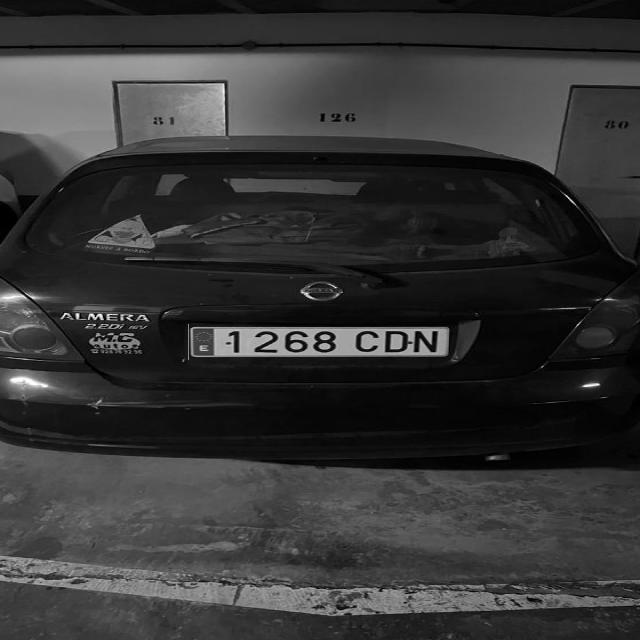License-Plate: (188, 324, 449, 360)
